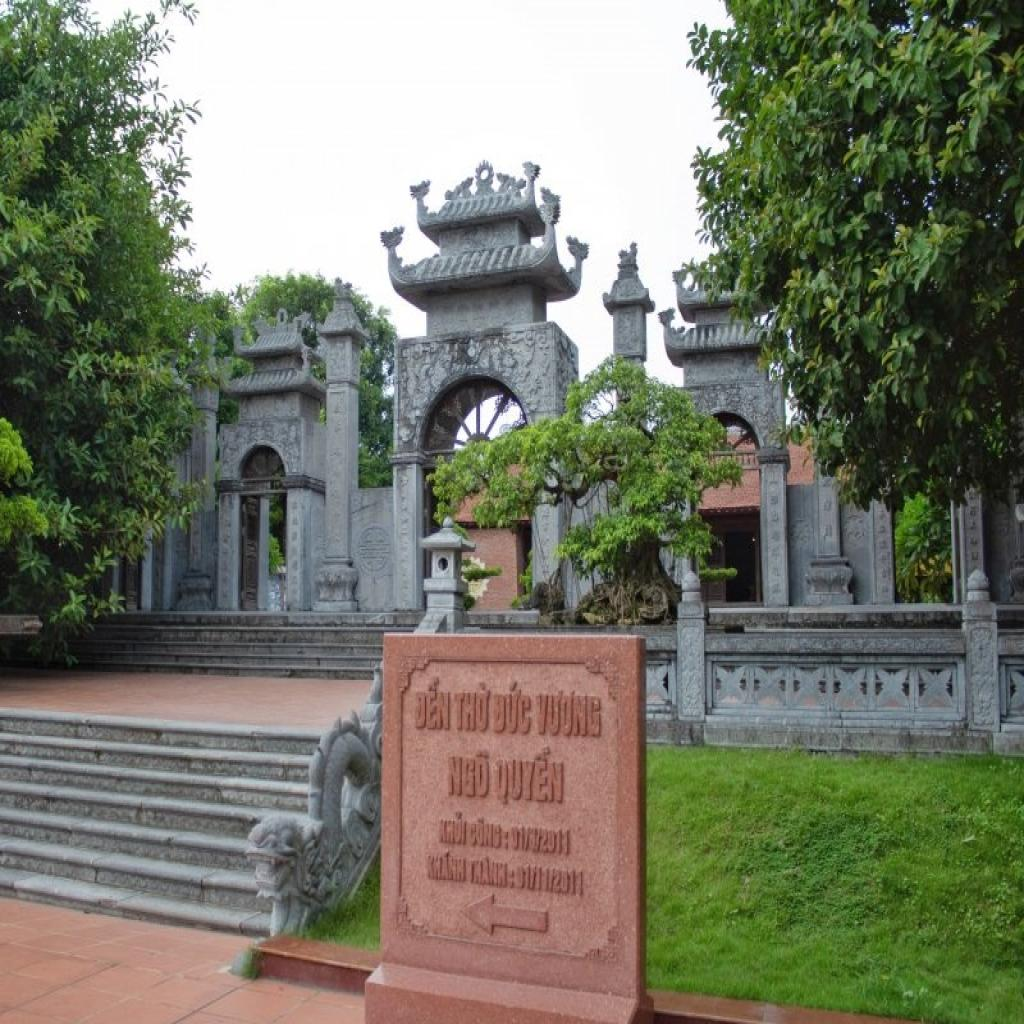text: (490, 744, 567, 814), (535, 688, 604, 742), (514, 862, 588, 901), (444, 747, 493, 802), (492, 678, 534, 741), (411, 674, 453, 732), (510, 822, 574, 860), (453, 680, 494, 738), (467, 854, 517, 894), (424, 846, 468, 890), (468, 816, 510, 854), (436, 808, 470, 850)
